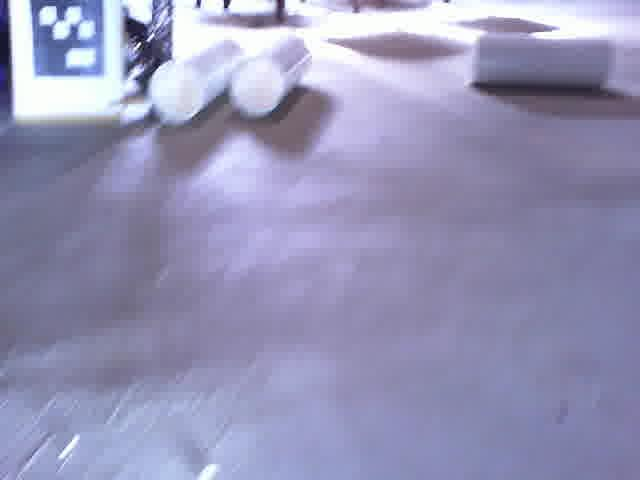coral: (147, 32, 248, 133), (465, 30, 622, 90), (223, 31, 318, 125)
